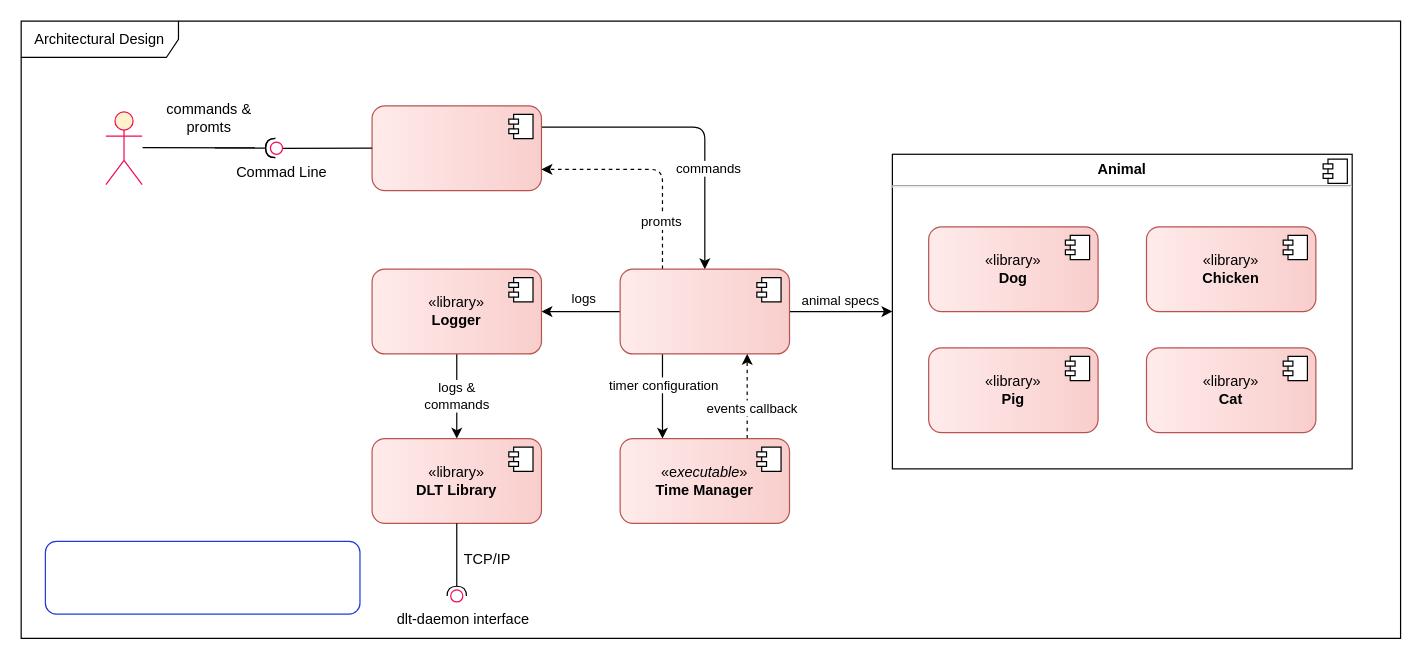
This 1422x659 diagram has some shape labels left out. The shapes that lost their labels are listed below. From the top down, each one's centre as x and y in pixels, then its label:
(123,148): User
(456,148): «e xecutable » User Interface
(704,311): «e xecutable » MacDonal Farm
(202,577): Project: Funny Farm Author: Sang, Tan Truong File: ArchitecturalDesign.drawio
